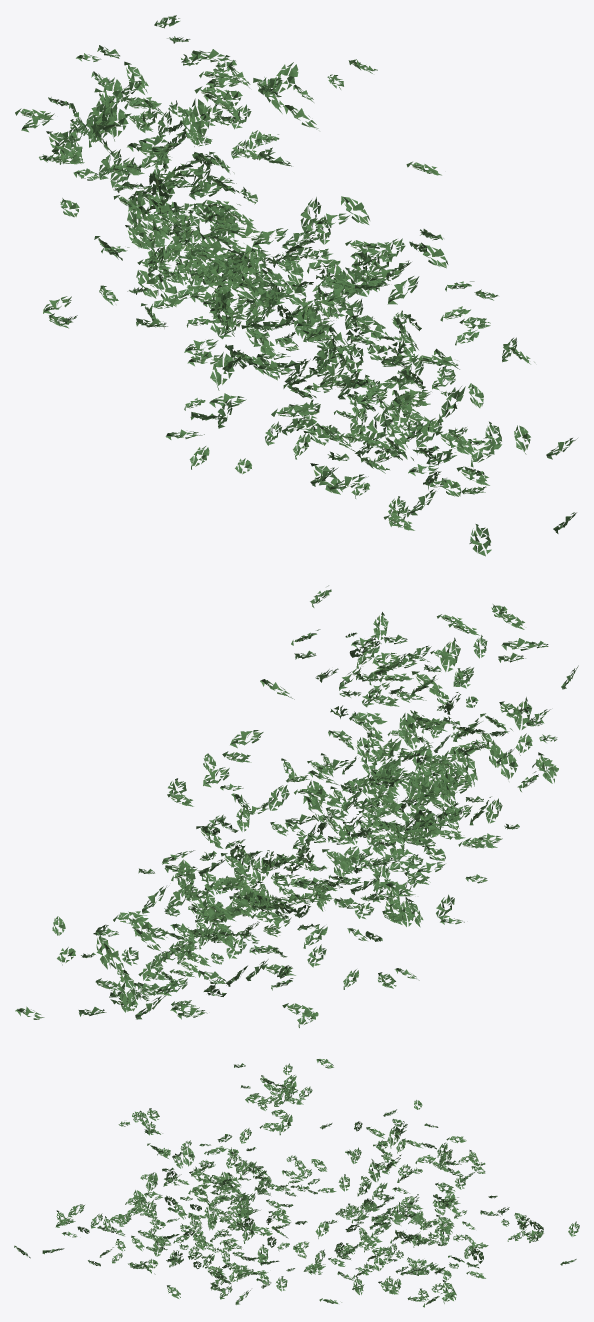
The model's file is holy_canopy6_real.glb.
The picture shows the model from 3 angles, top to bottom: view 1: azimuth 30°, elevation 25°; view 2: azimuth 150°, elevation 25°; view 3: azimuth 270°, elevation 25°; orthographic projection. The views are drawn at different scales.
Parts seen in each view (by area): view 1: holy_canopy6; view 2: holy_canopy6; view 3: holy_canopy6.
Boxes of the visible parts, x1,y1,x2,y2 form: holy_canopy6: (15, 15, 577, 556); holy_canopy6: (15, 585, 578, 1027); holy_canopy6: (14, 1059, 579, 1307).
Bounding box in the file's own units: 9.3 × 12.46 × 28.17.
1 material, 1 textured.
